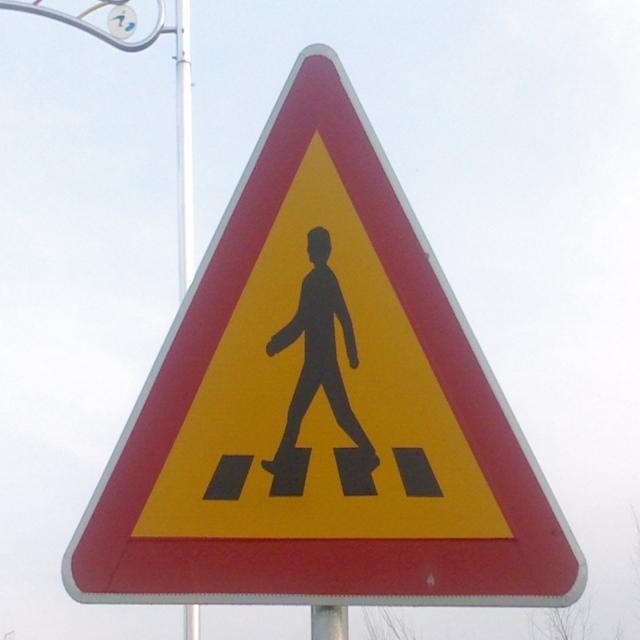Pedestrian_crossing: (41, 32, 597, 626)
